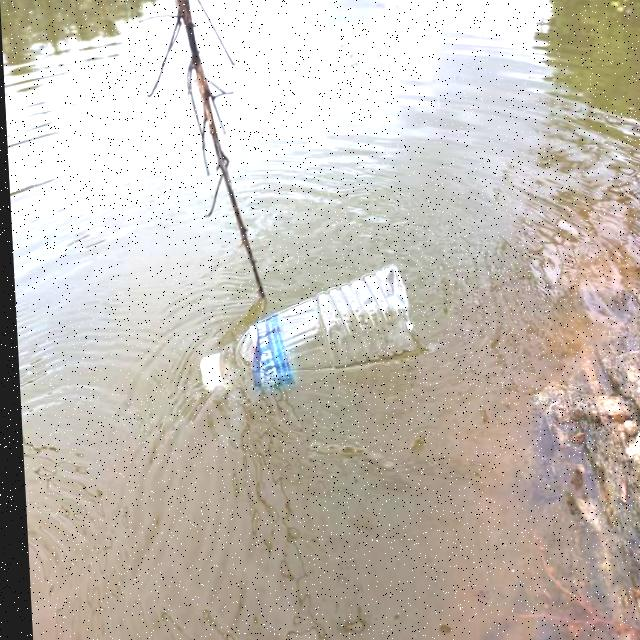waterbottle: (176, 262, 427, 392)
